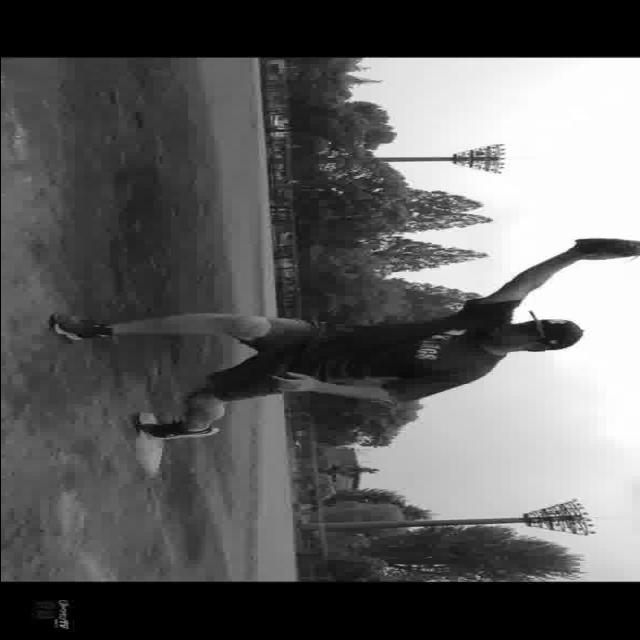base: (137, 413, 165, 475)
baseball_glove: (560, 238, 640, 264)
shoe: (47, 316, 115, 338), (140, 424, 218, 438)
